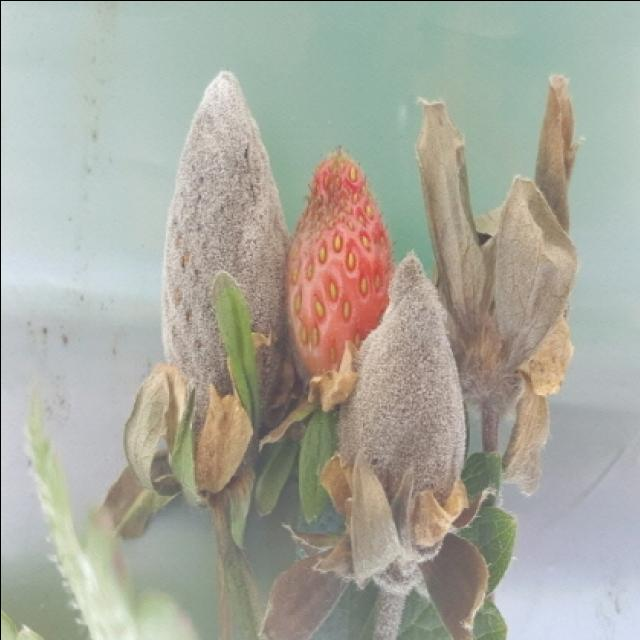Gray Mold: (284, 245, 493, 595), (161, 70, 288, 490)
